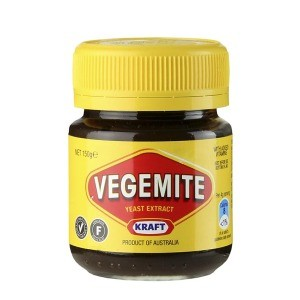yeast spread_brain food: (74, 134, 226, 247)
